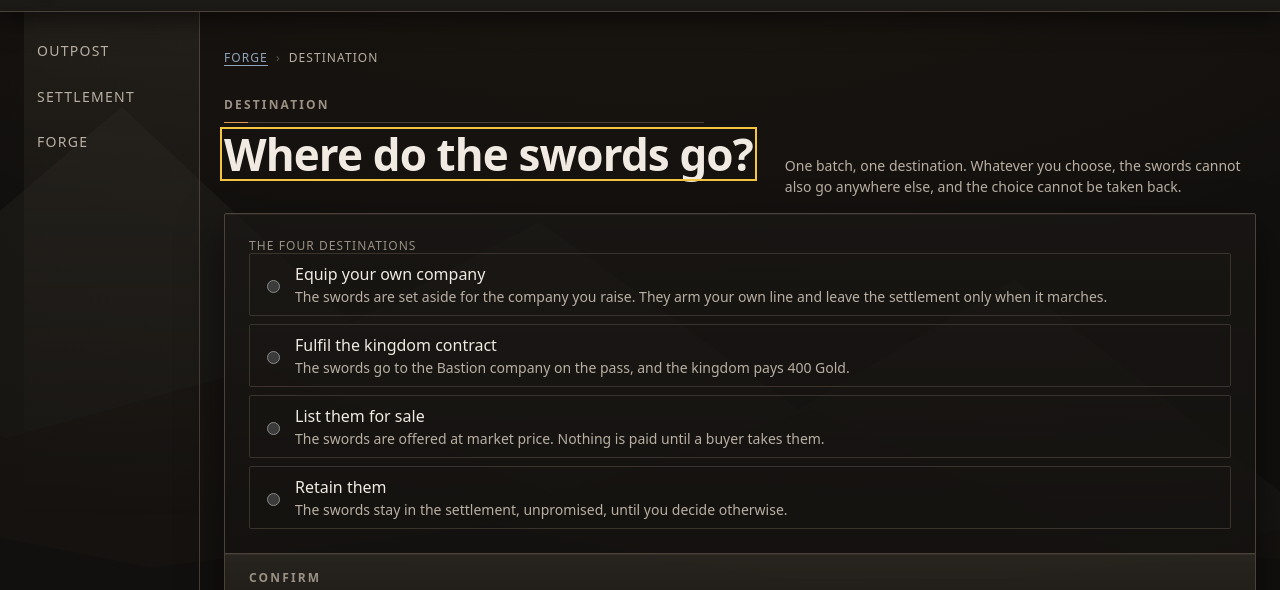
Test: The destination — what each one does › pays the contract fee exactly once and records it
What coordinates should you click on to do the following:
click the radio button labelled "Fulfil the kingdom contract"
I would click on:
 (274, 357)
Its box is top-left (267, 351), bottom-right (280, 364).
(page scrolled)
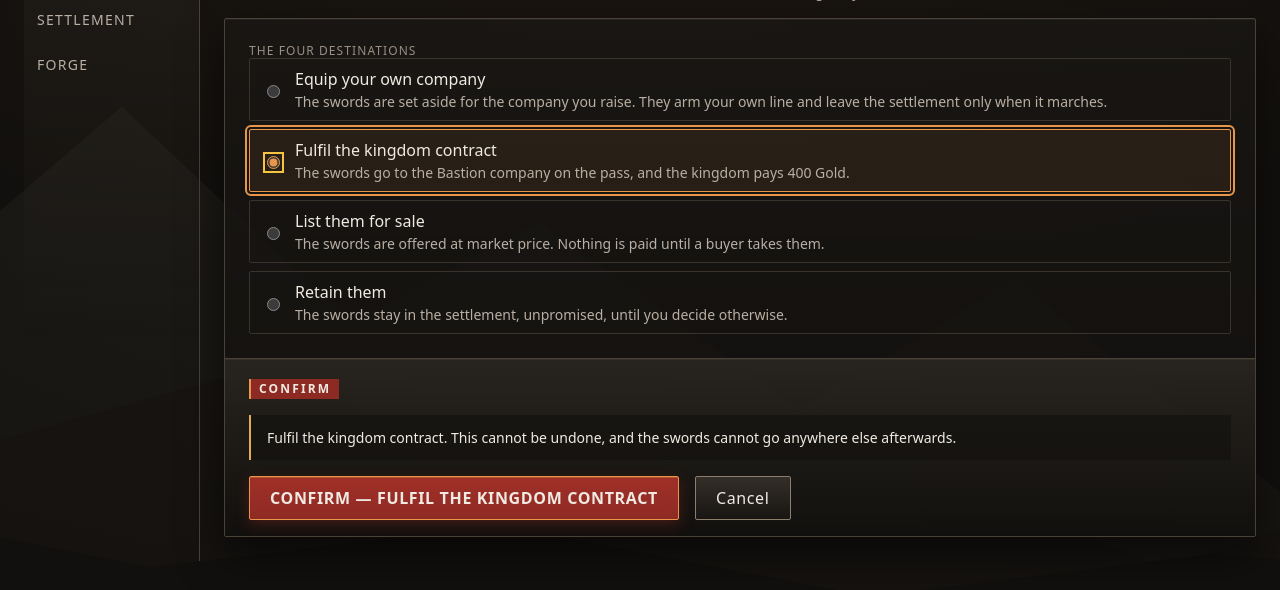
What coordinates should you click on to do the following:
click the button "Confirm — Fulfil the kingdom contract"
I would click on:
 (464, 498)
Its box is top-left (249, 476), bottom-right (679, 520).
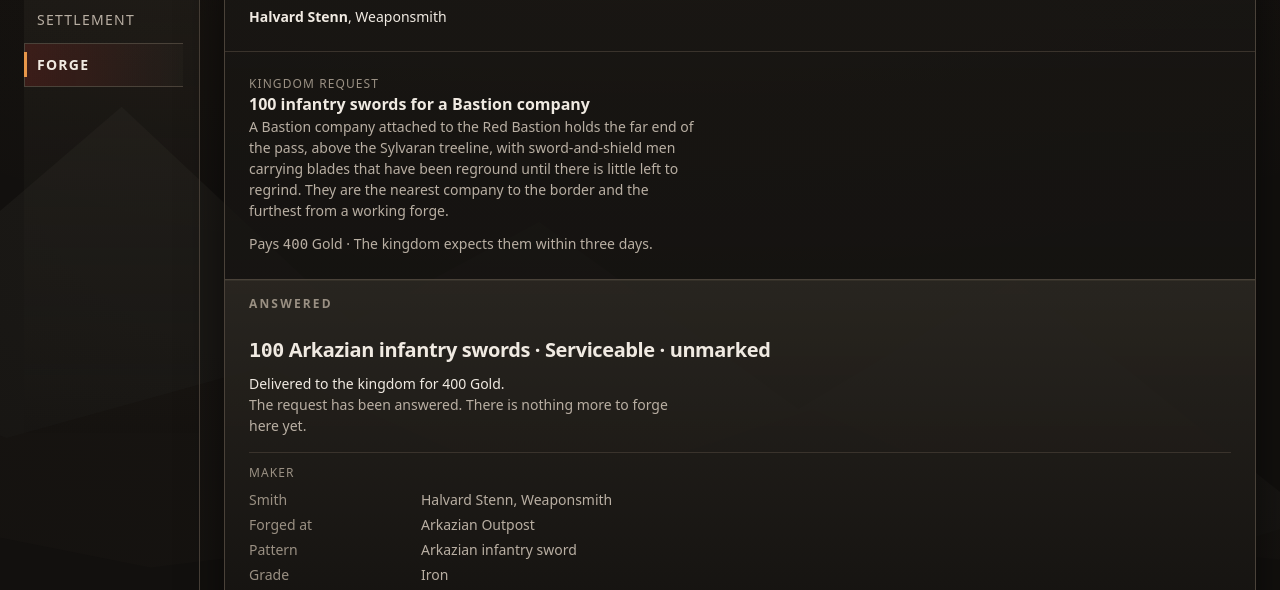
Now the text "Delivered to the kingdom for 400 Gold." is shown, box top-left (249, 374), bottom-right (505, 393)
